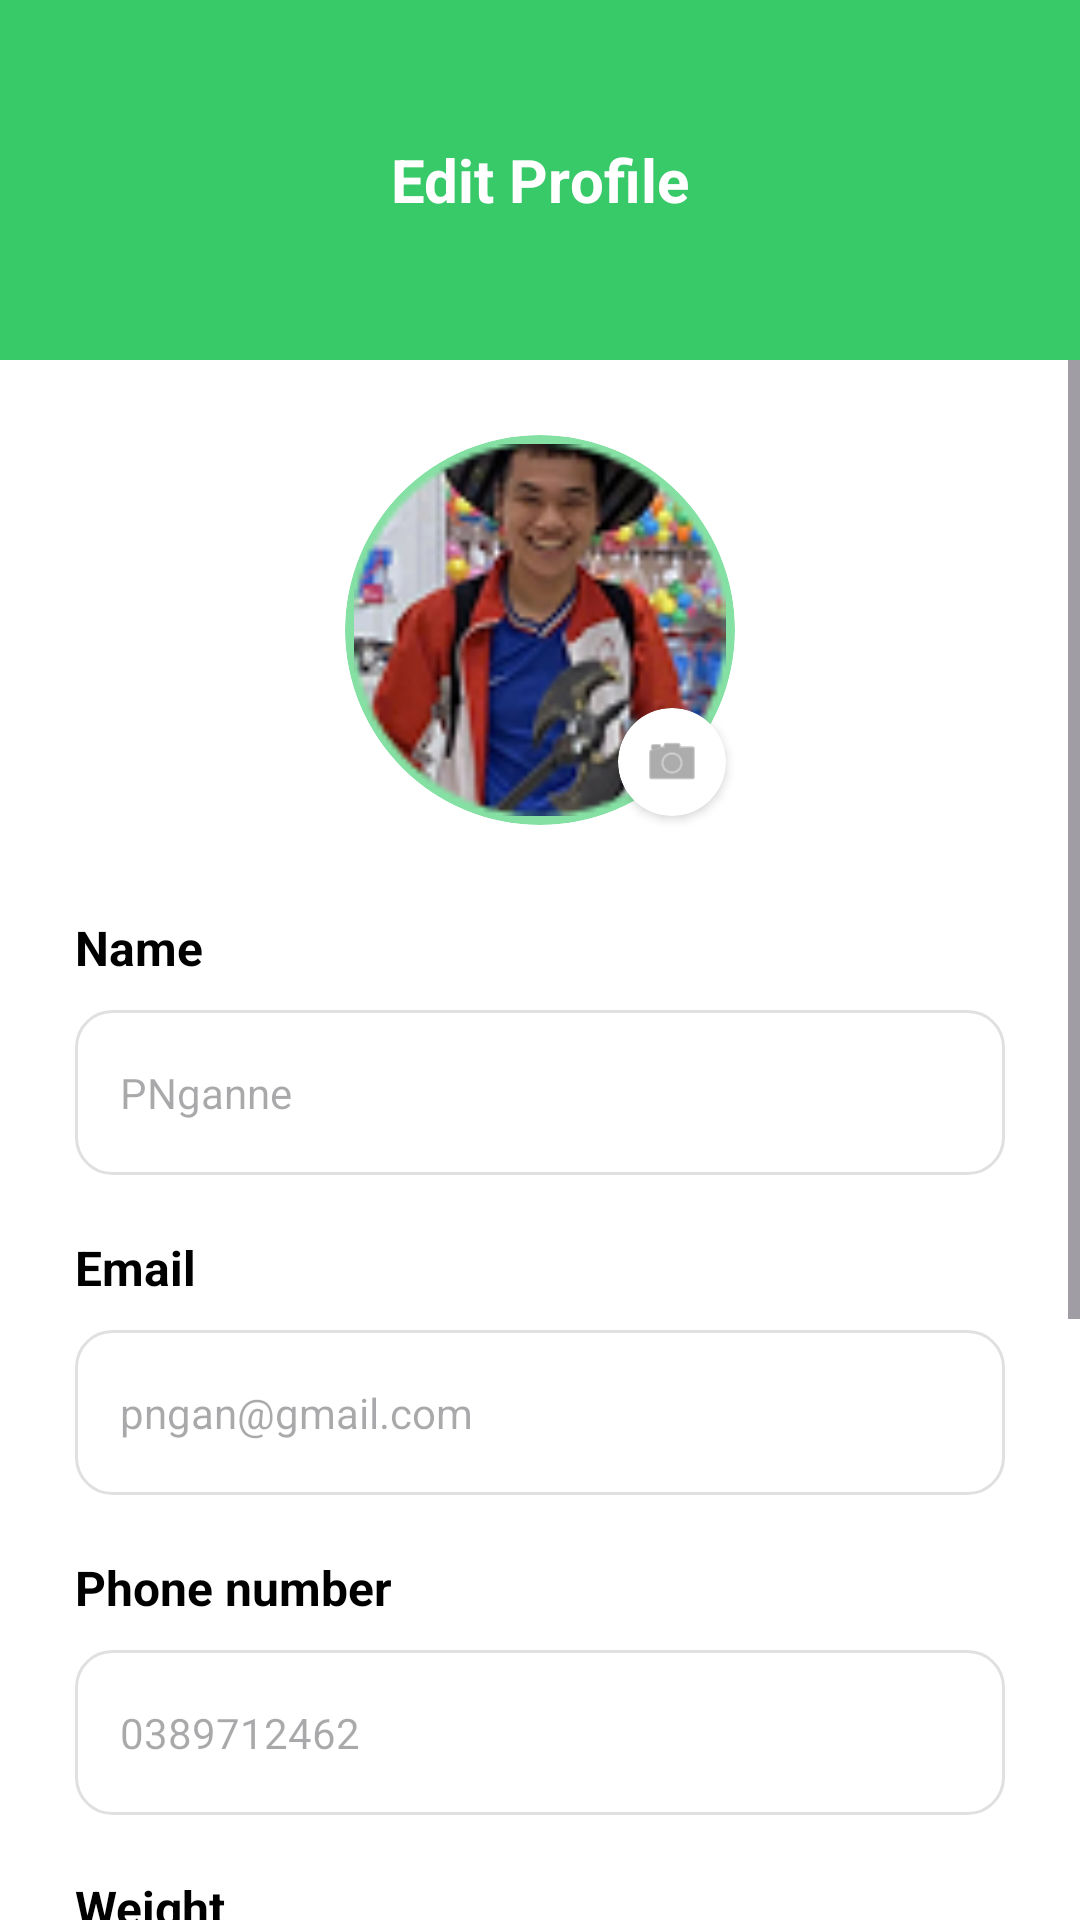

Point at icon controls on the screen. Image size 1080 x 1920, points as (x=x, y=y).
camera: (x=672, y=762)
